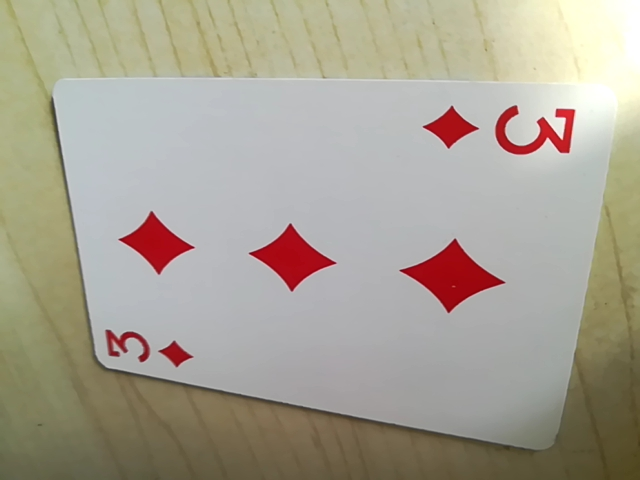fk 3: (419, 96, 573, 161), (100, 321, 200, 374)
